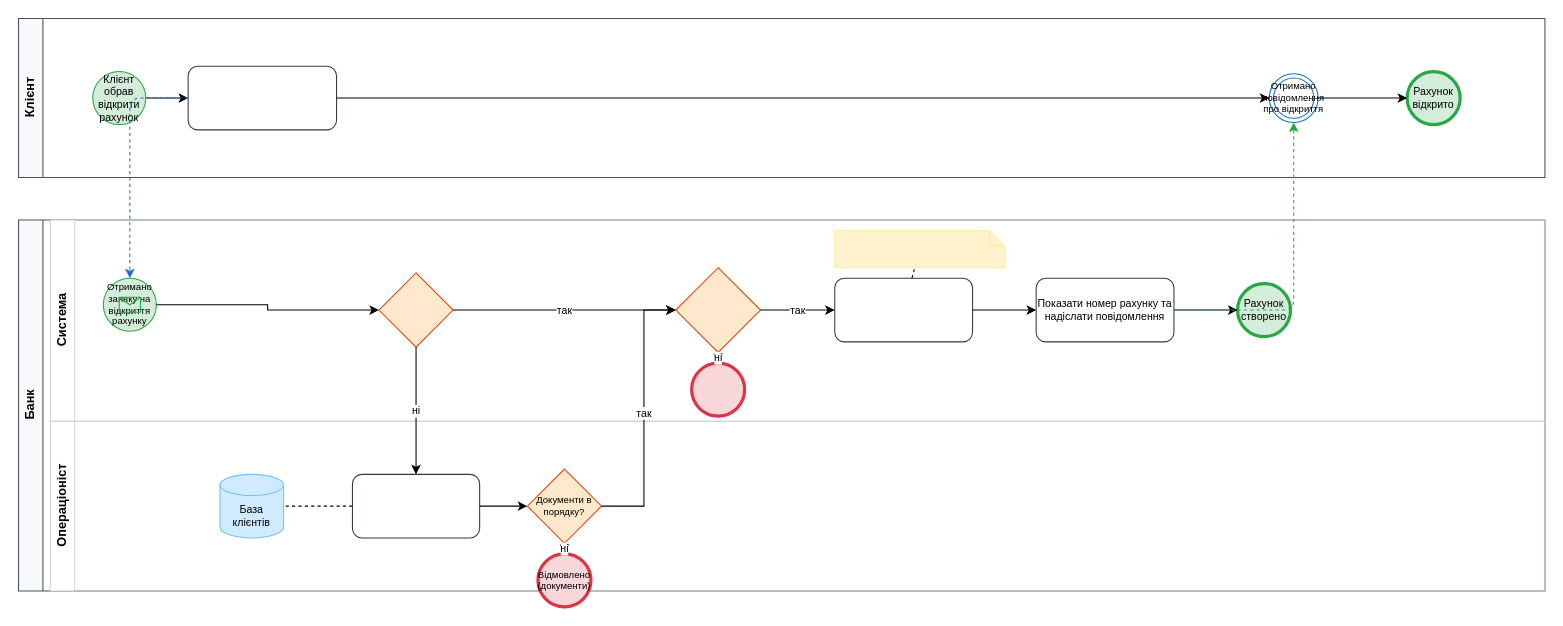
Image size: 1563x626. Some labels were removed from this diagram. The shapes that lost their labels are listed below. From the top down, each one's centre as x and y in pixels, then its label:
At point 262,97: "Обрати тип (поточний/ощадний) та рахунок для внеску".
At point 919,248: "[ Реквізити нового рахунку генеруються автоматично".
At point 415,309: "Клієнт ідентифікований?".
At point 718,309: "Чи достатньо коштів для початкового внеску?".
At point 903,309: "Створити рахунок і перенести внесок".
At point 718,389: "Недостатньо коштів".
At point 415,505: "Перевірити документи".
